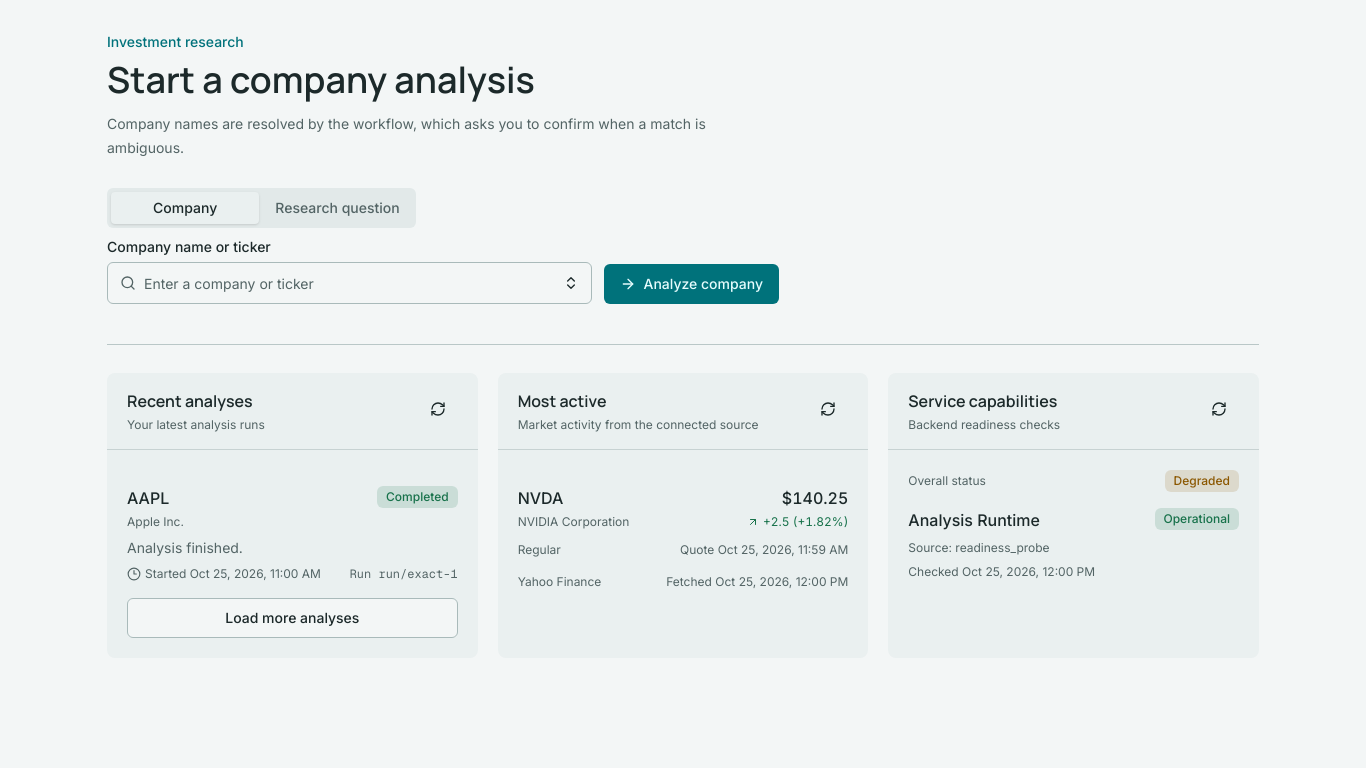
Test case: home dashboard › loads the next page using the server cursor and appends without duplicate runs
Click the button "Load more analyses": point(292, 618) left=127, top=598, right=458, bottom=638
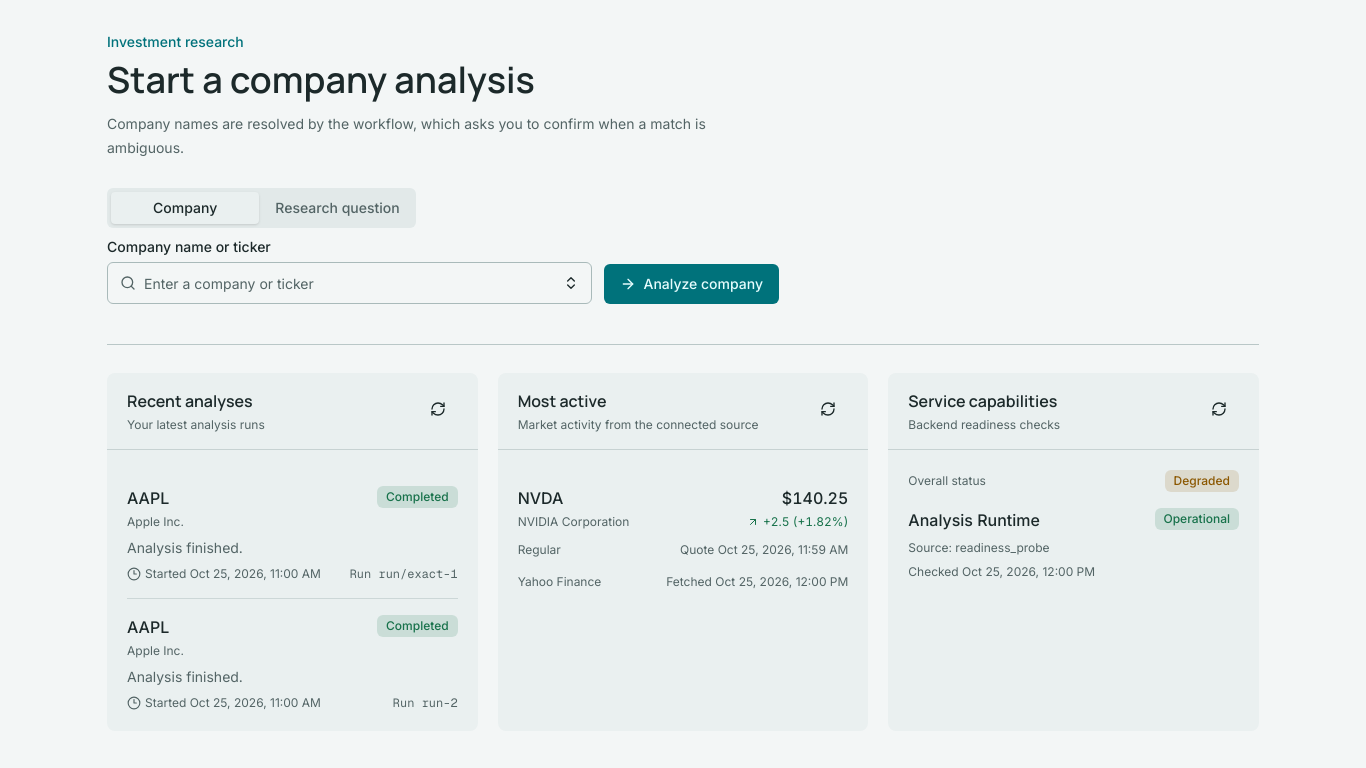
Now the link with aria-label "Open analysis run run-2" is shown, box left=127, top=599, right=458, bottom=711
Now the number of links named "Open analysis run" is 2, box left=127, top=470, right=458, bottom=599; left=127, top=599, right=458, bottom=711
